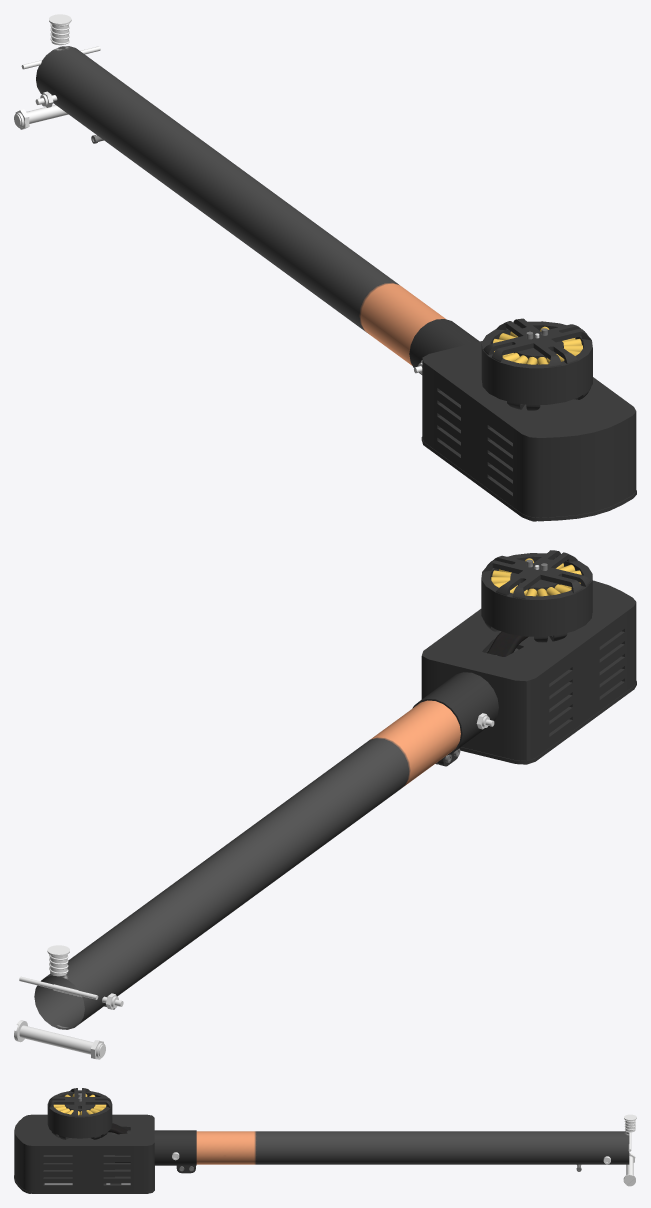
The model's file is Hand.fbx.
3 renders of one model, top to bottom at view 1: azimuth 30°, elevation 25°; view 2: azimuth 150°, elevation 25°; view 3: azimuth 270°, elevation 25°, orthographic. The views are drawn at different scales.
Parts seen in each view (by area): view 1: Hand; view 2: Hand; view 3: Hand.
Part boxes in pixels (x1,y1,x2,y2): Hand: [14, 14, 636, 521]; Hand: [14, 550, 636, 1059]; Hand: [14, 1088, 636, 1193].
Size of the model in its own units: 42.8 by 34.57 by 287.
